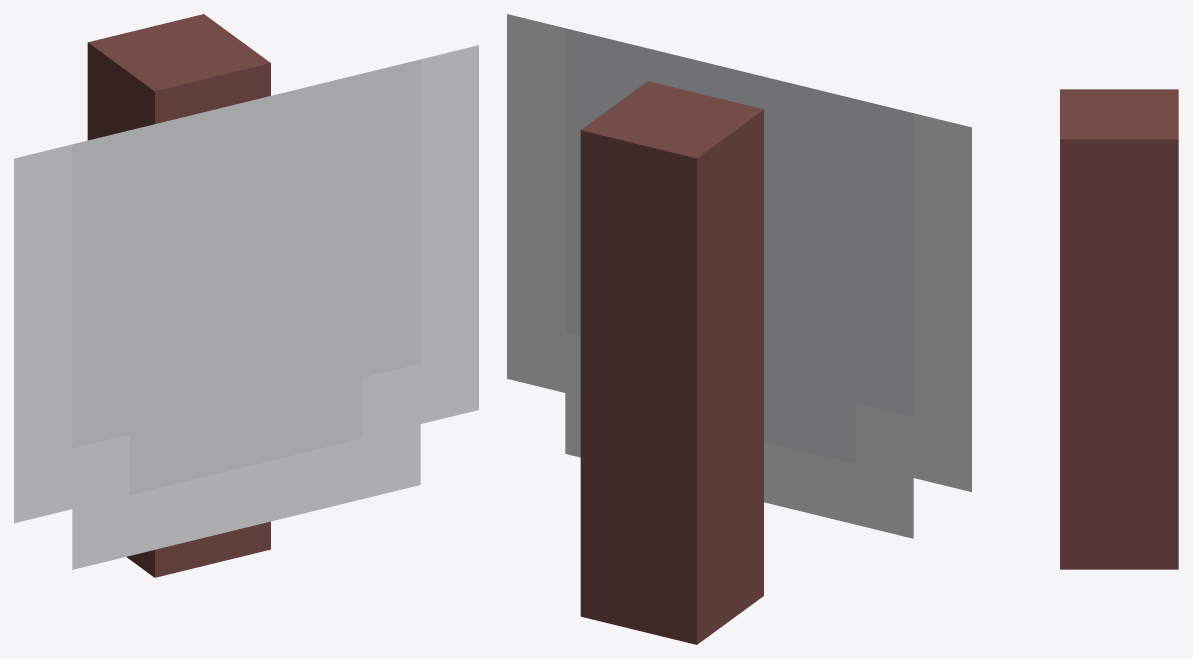
File: White Banner.glb
3 views of the same model, side by side, from view 1: azimuth 30°, elevation 25°; view 2: azimuth 150°, elevation 25°; view 3: azimuth 270°, elevation 25° (orthographic). The views are drawn at different scales.
Visible parts, largest first — view 1: cube; view 2: cube; view 3: cube.
Part boxes in pixels (x1=…): cube: x1=14, y1=14, x2=478, y2=577; cube: x1=507, y1=14, x2=971, y2=644; cube: x1=1060, y1=89, x2=1178, y2=569.
Bounding box in the file's own units: 1 × 1 × 0.3751.
1 material, 1 textured.
